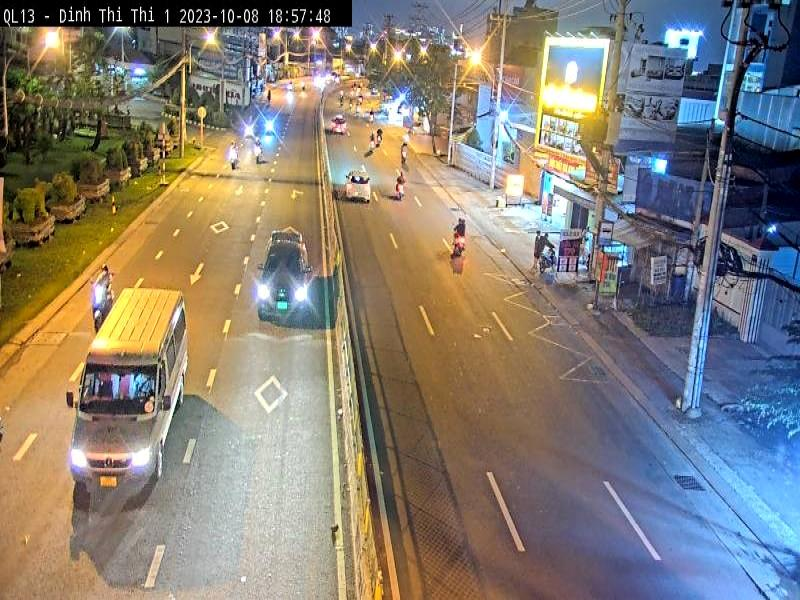car: (71, 283, 189, 503)
